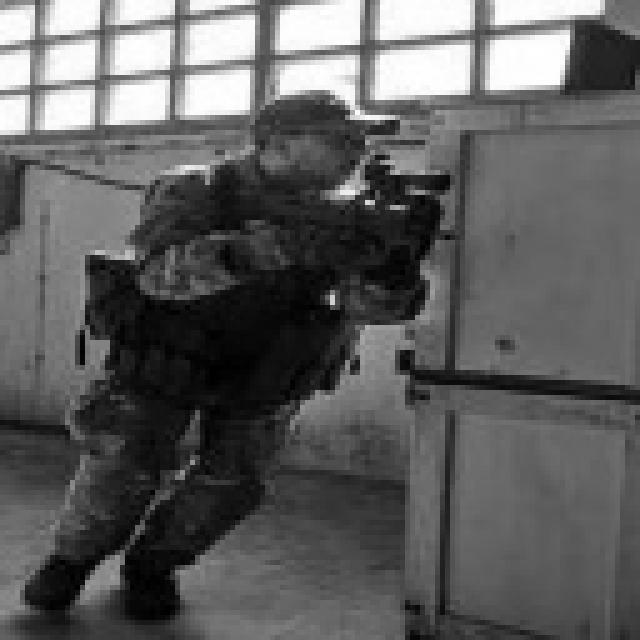Rifle: (246, 143, 481, 326)
